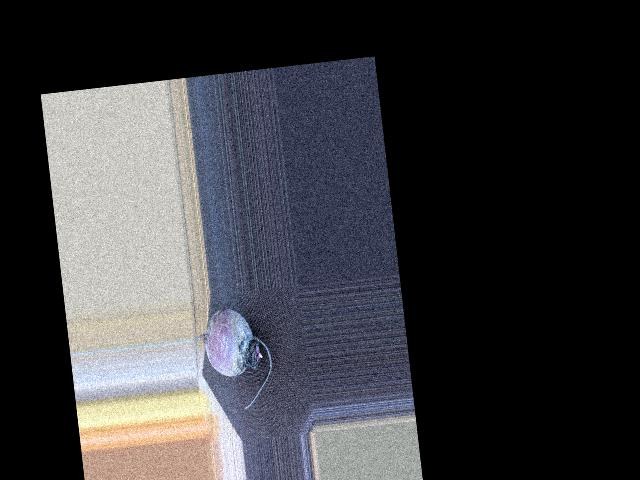beet: (190, 304, 277, 414)
